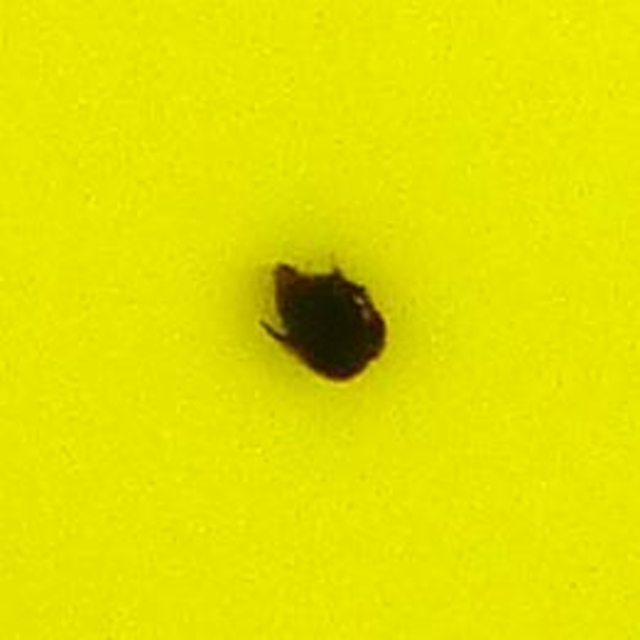Hymenoptera: (245, 251, 395, 389)
